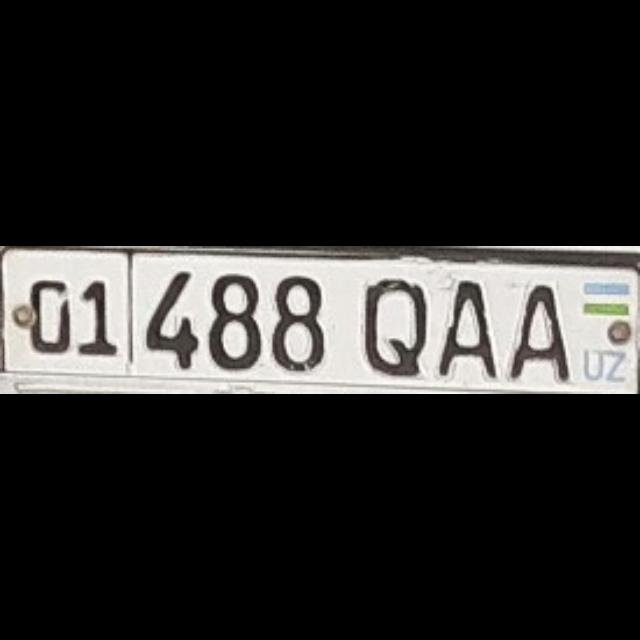0: (28, 276, 68, 350)
1: (74, 276, 114, 350)
4: (144, 269, 198, 367)
8: (270, 271, 324, 369), (208, 269, 258, 367)
A: (438, 276, 496, 374), (507, 284, 565, 378)
Q: (362, 276, 426, 374)
